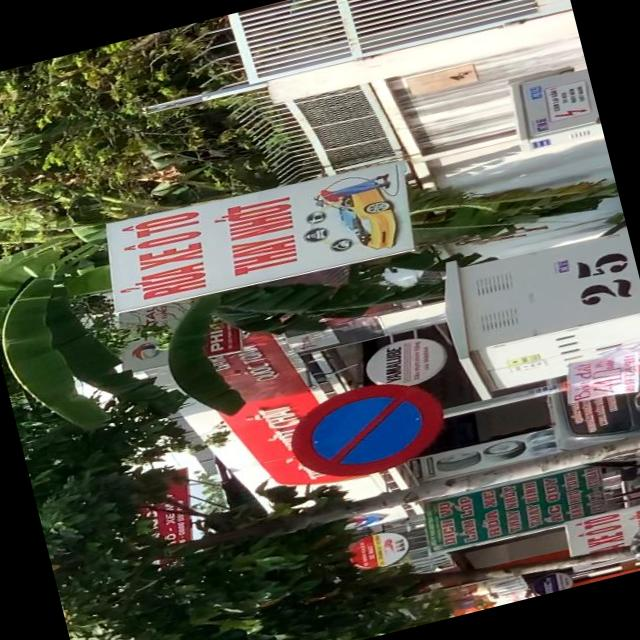P-131a: (278, 368, 451, 492)
